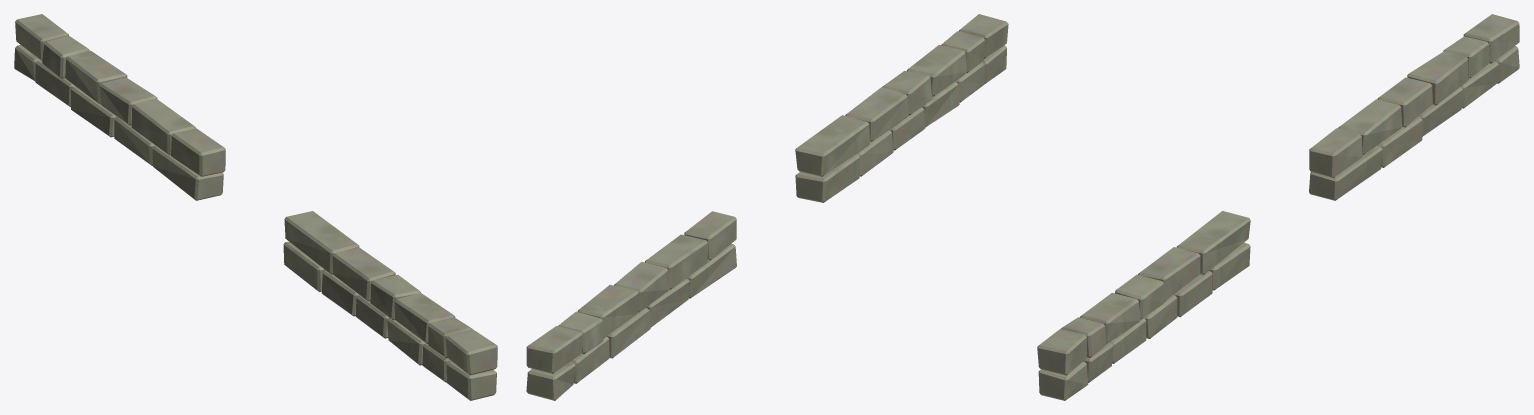
File: SM_HH_V2_Stone_Front.fbx
3 renders of one model, left to right at view 1: azimuth 30°, elevation 25°; view 2: azimuth 150°, elevation 25°; view 3: azimuth 330°, elevation 25°, orthographic.
Parts seen in each view (by area): view 1: HH_V2_Stone_Front; view 2: HH_V2_Stone_Front; view 3: HH_V2_Stone_Front.
Part boxes in pixels (x1,y1,x2,y2): HH_V2_Stone_Front: [14, 14, 497, 400]; HH_V2_Stone_Front: [526, 14, 1008, 400]; HH_V2_Stone_Front: [1037, 14, 1519, 400].
Bounding box in the file's own units: 8.76 × 0.354 × 0.5424.
